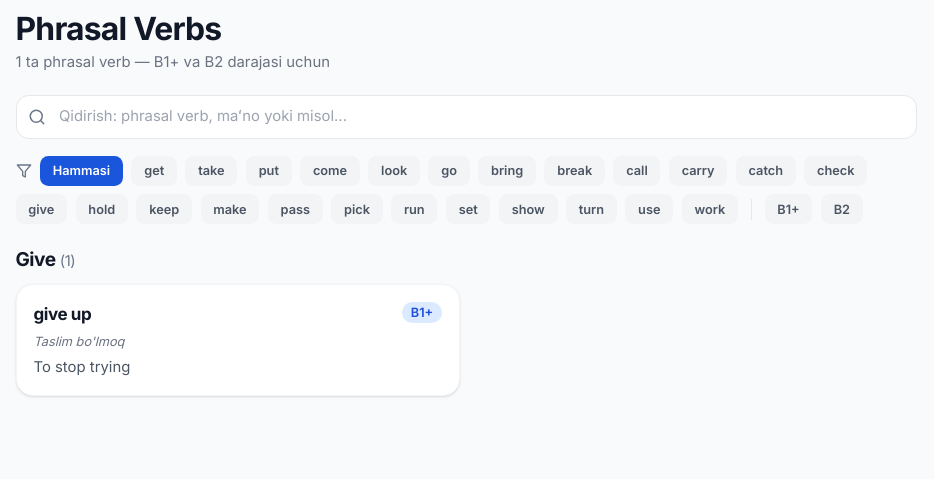
Test: PhrasalVerbs › opens detail view when a card is clicked
The width and height of the screenshot is (934, 479).
Click the heading "give up" at (62, 314), box [34,302,91,327]
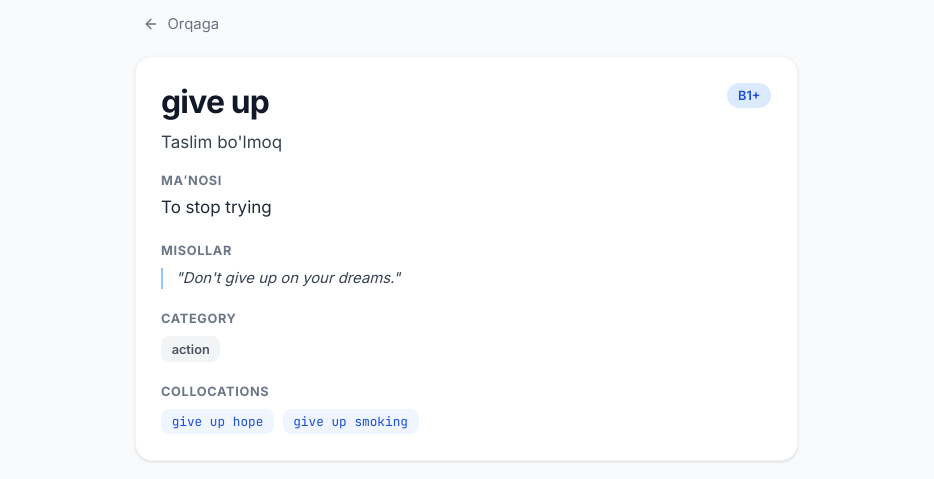
Expected: the heading "Maʻnosi" is shown, [161,173,222,188]
